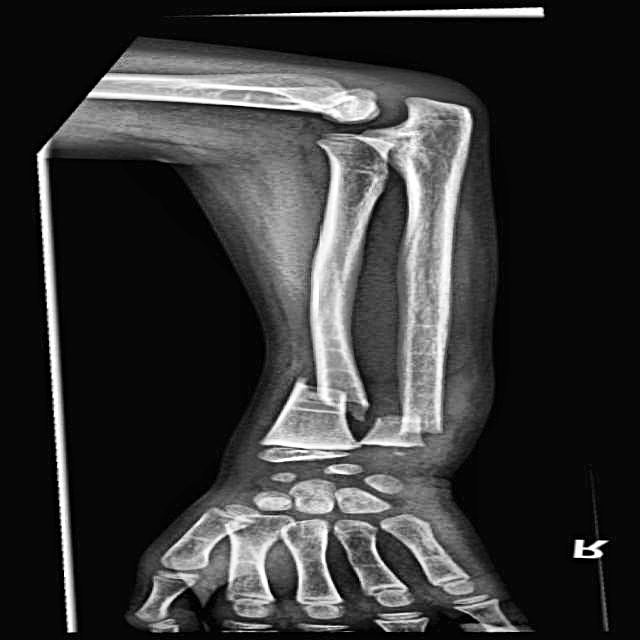Oblique: (274, 355, 382, 417)
Transverse: (375, 410, 474, 458)
